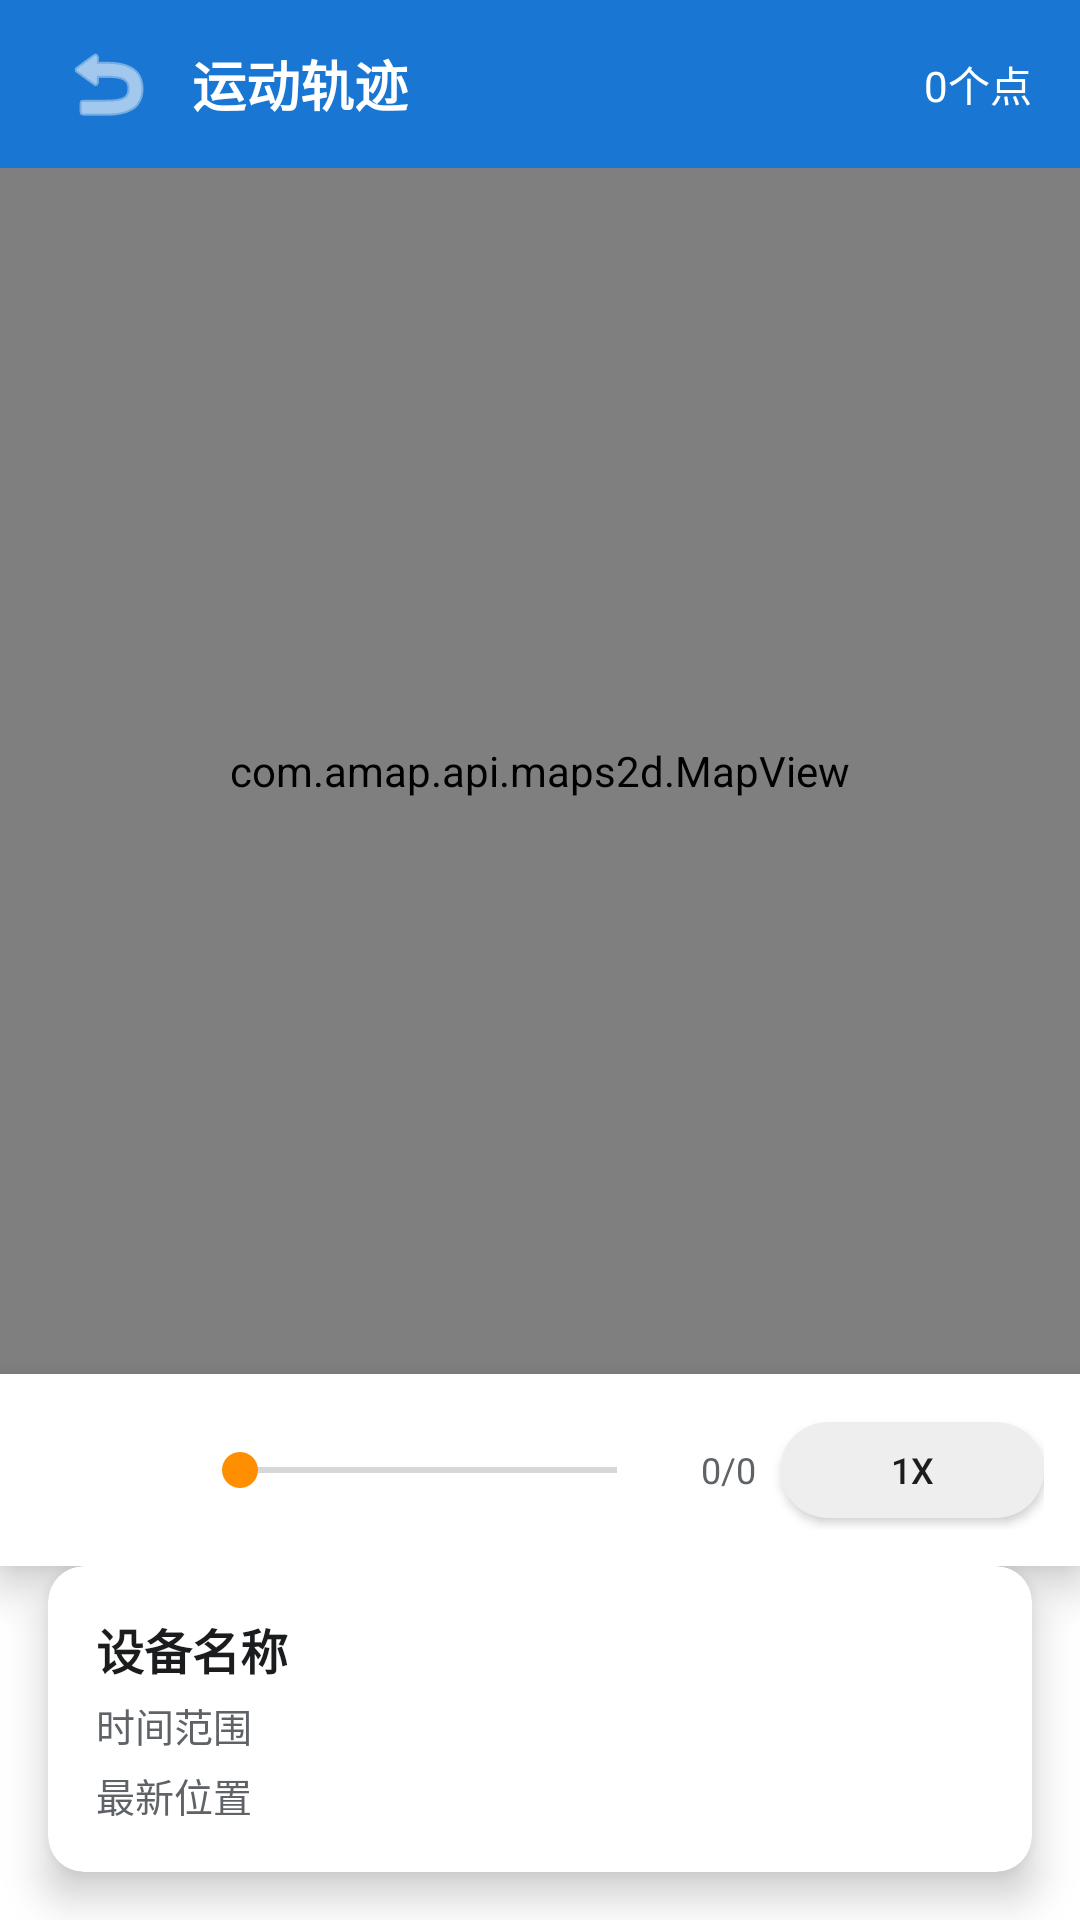

Where icons sit on this 1080 × 1920 app screen, as {"left": x1, "top": y1, "right": x2, "bottom": y2}:
返回: {"left": 75, "top": 53, "right": 144, "bottom": 116}
